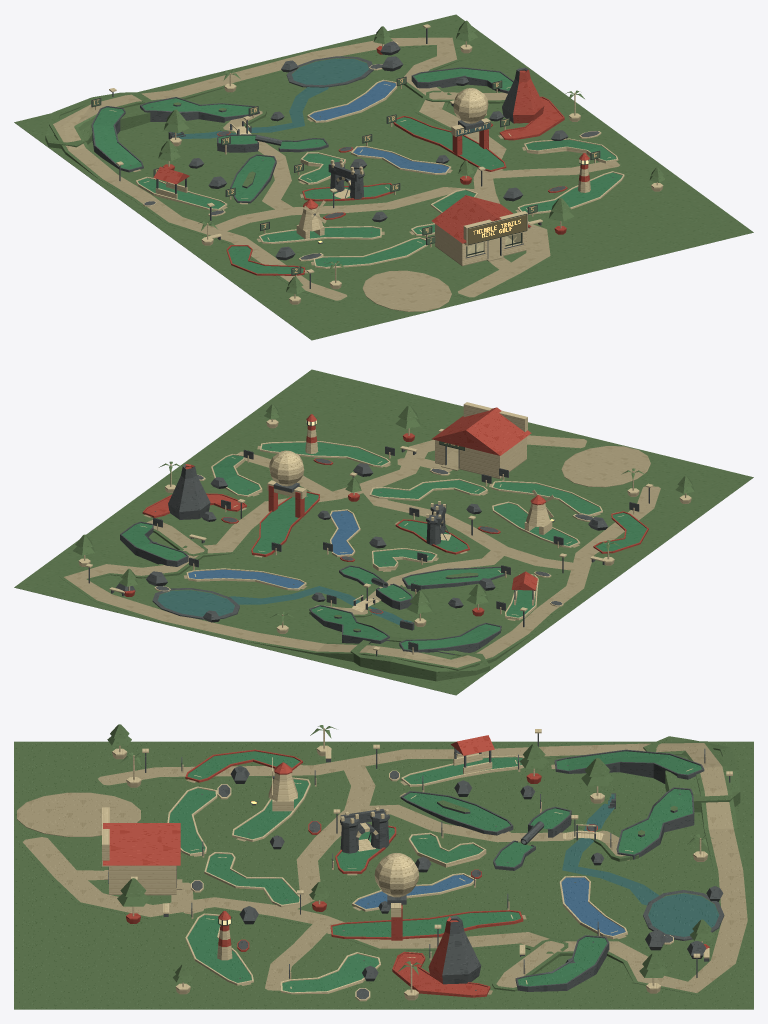
Rendered from thimble-trails-1962-far.glb.
The picture shows the model from 3 angles, top to bottom: view 1: azimuth 30°, elevation 25°; view 2: azimuth 150°, elevation 25°; view 3: azimuth 270°, elevation 25°; orthographic projection. The views are drawn at different scales.
Visible parts, largest first — view 1: lot, putting_lanes, course_obstacles, ticket_hut, statue_pad, sign_name; view 2: lot, putting_lanes, ticket_hut, course_obstacles, statue_pad; view 3: lot, putting_lanes, course_obstacles, ticket_hut, statue_pad, Gate turret.001, Covered bridge roof, Gate turret.
Boxes of the visible parts, x1,y1,x2,y2 form: lot: (14,14,753,340); putting_lanes: (91,67,624,276); course_obstacles: (296,67,590,238); ticket_hut: (431,195,531,266); statue_pad: (362,270,451,311); sign_name: (467,214,527,245); lot: (14,369,753,695); putting_lanes: (120,441,648,654); ticket_hut: (431,402,531,478); course_obstacles: (168,414,552,534); statue_pad: (561,446,650,487); lot: (14,736,753,1009); putting_lanes: (167,748,706,997); course_obstacles: (217,762,481,984); ticket_hut: (102,807,182,895); statue_pad: (17,792,140,836); Gate turret.001: (340,817,359,853); Covered bridge roof: (451,735,494,755); Gate turret: (370,812,389,848).
Size of what is drawn, in the model's own units: 60 by 7.98 by 70.
Materials: 11 (11 with a texture image).
